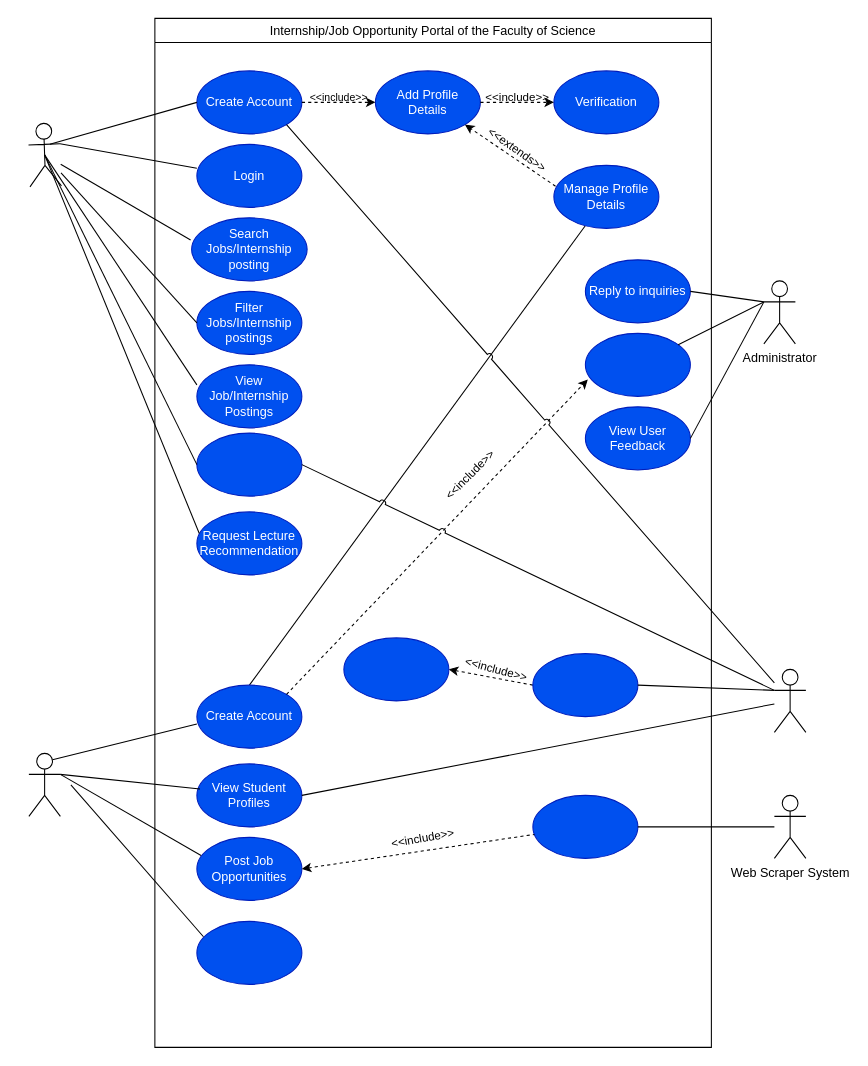
This 868x1066 diagram has some shape labels left out. The centre of each missing label's shape, as x and y in pixels:
Account Approve: point (637, 364)
Employer: point (44, 784)
Lecture: point (789, 700)
Manage Job Opportunities: point (249, 952)
Provide Recomendation: point (585, 685)
Scrape Job Opportunities: point (585, 826)
Set visibility to students: point (396, 669)
Student: point (44, 154)
View Employers: point (249, 464)
